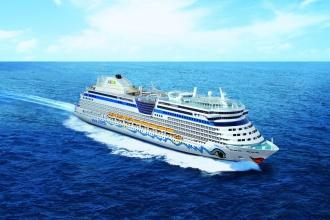youlun: (78, 68, 281, 164)
